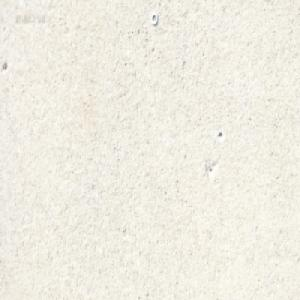Washer: (150, 12, 158, 26)
